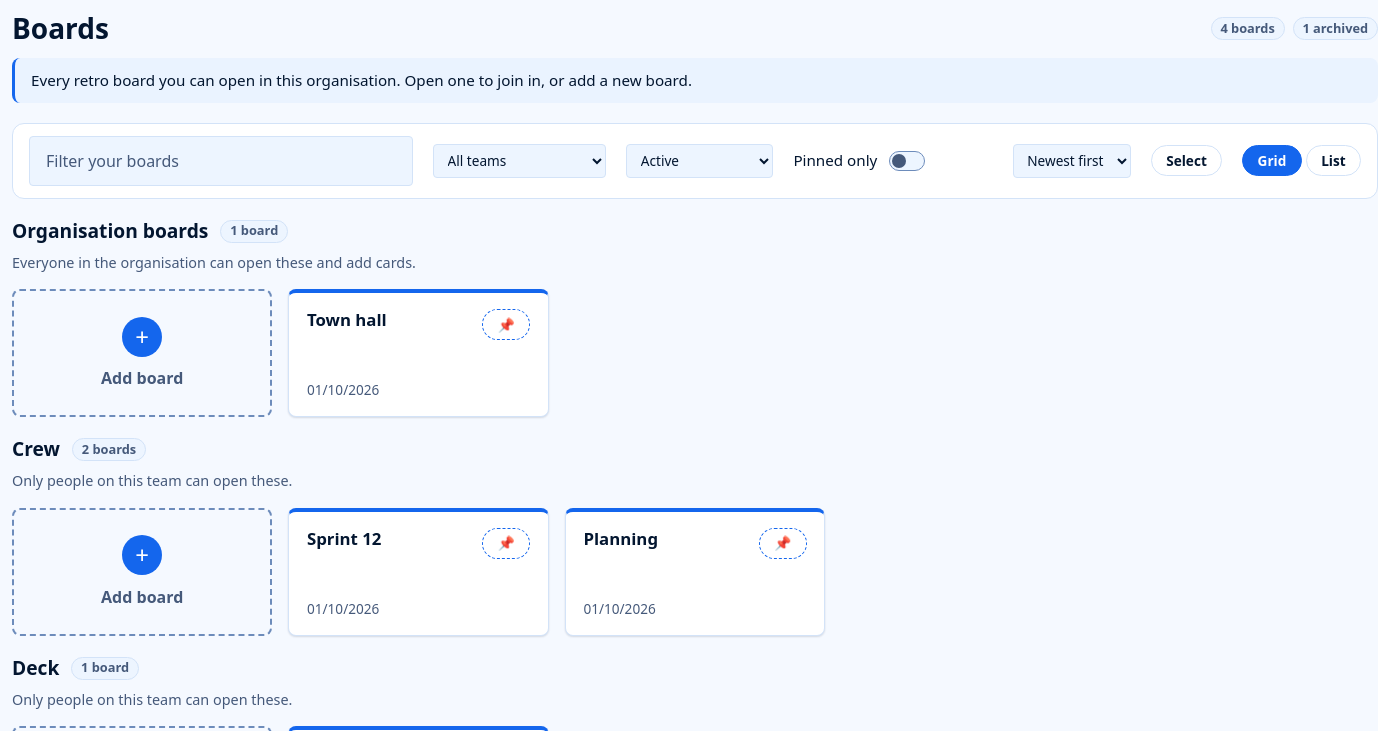
Test case: OrgBoardsPage › drops the selection when selection mode ends
The width and height of the screenshot is (1378, 731).
Click the button "Select".
click(1186, 161)  # box [1151,145,1222,176]
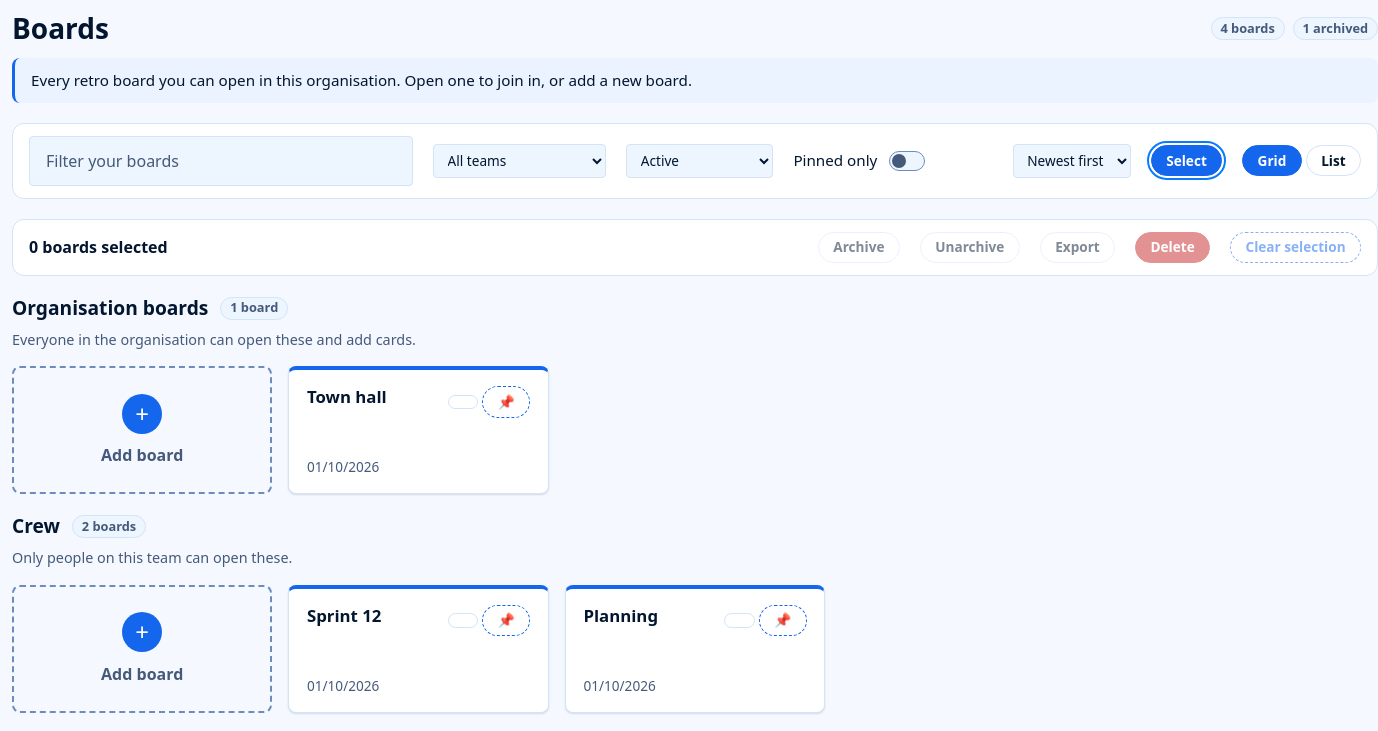
Click the checkbox named "Select Sprint 12".
click(463, 620)  # box [448,613,478,628]
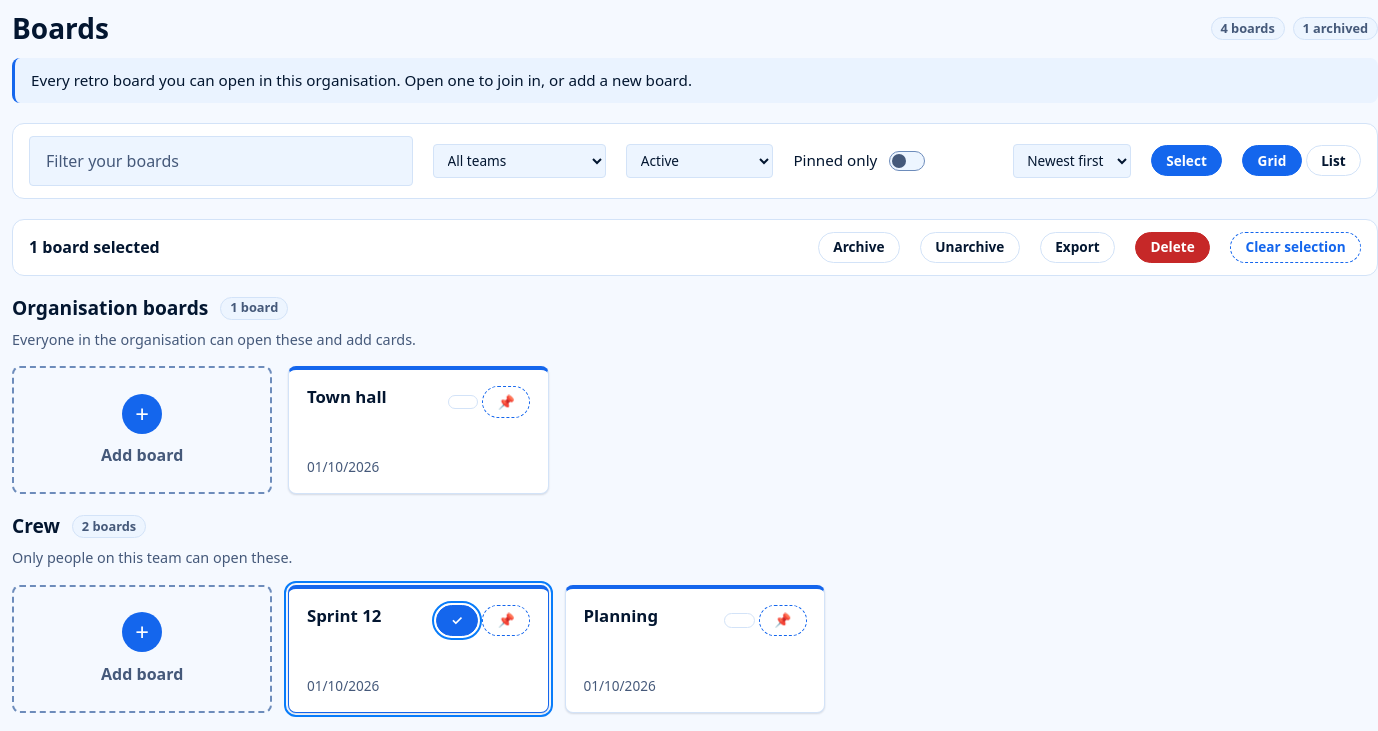
Click the button "Select".
click(1186, 161)  # box [1151,145,1222,176]
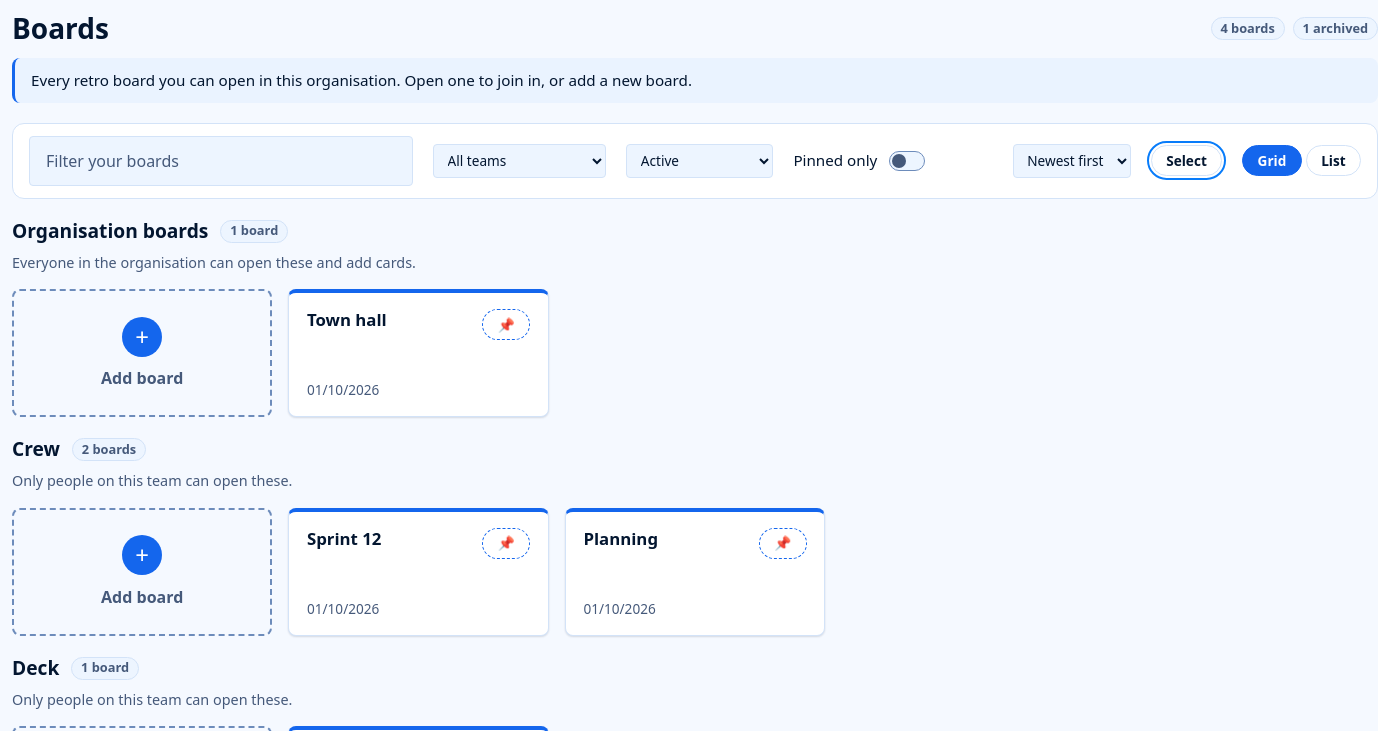
Click the button "Select".
click(1186, 161)  # box [1151,145,1222,176]
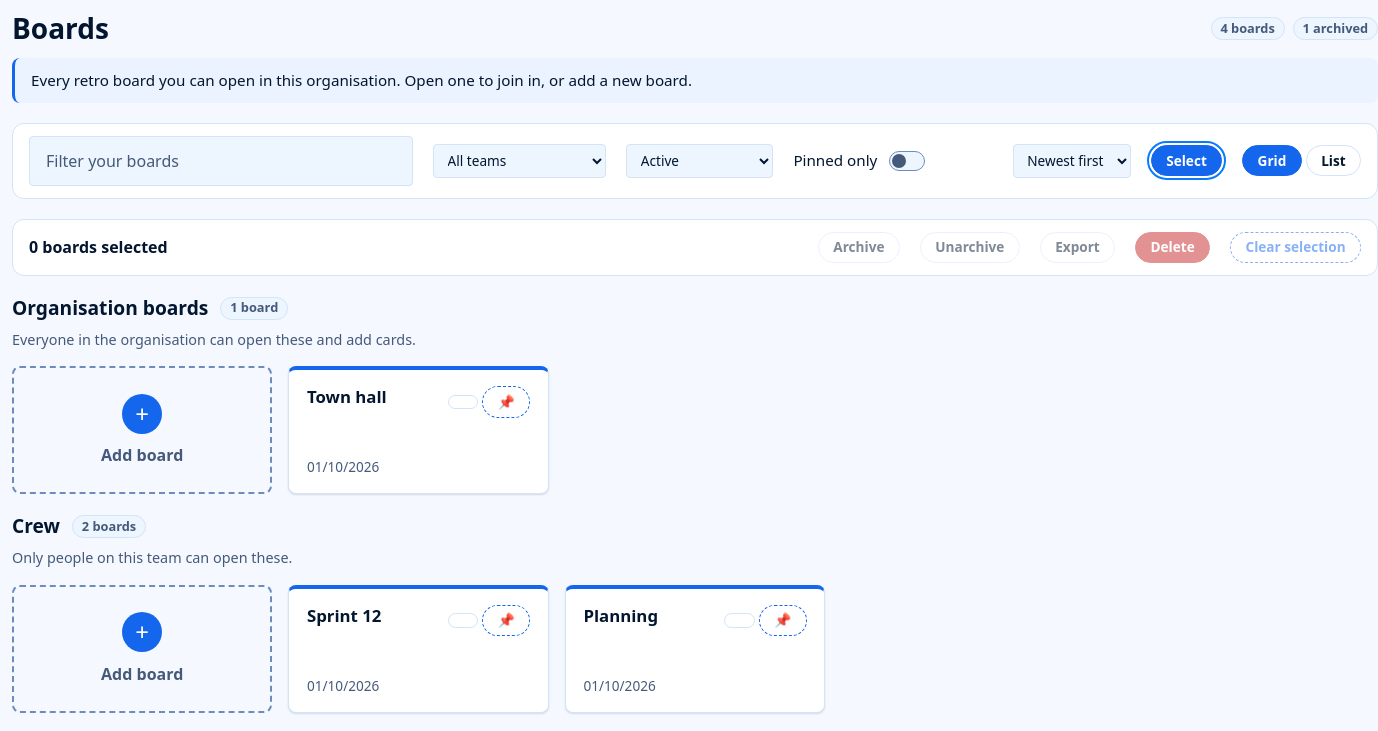
Expected: the checkbox named "Select Sprint 12" is not checked, [448,613,478,628]
